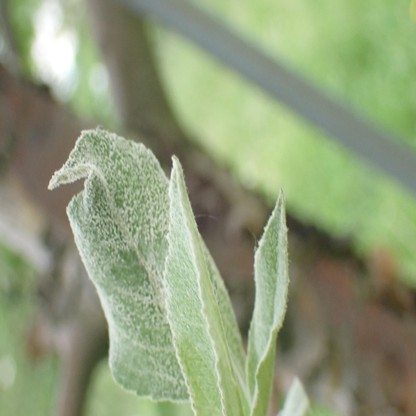powdery_mildew: (49, 129, 188, 404), (164, 155, 246, 416), (252, 188, 289, 361)
